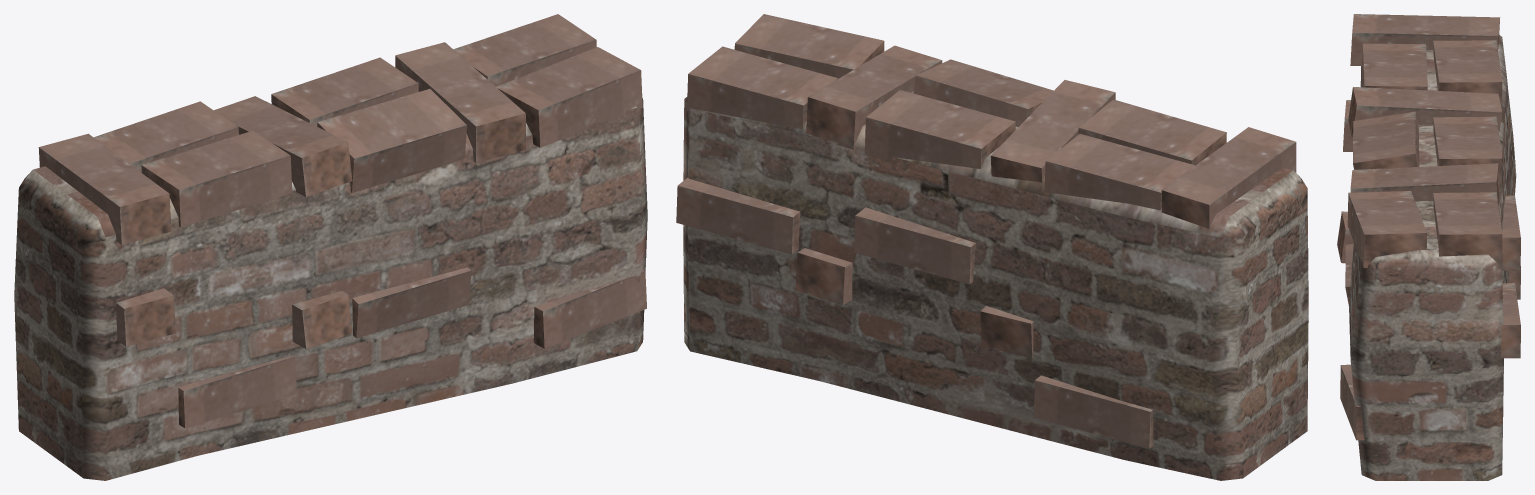
Rendered from sm_bareBrickWall_small.fbx.
The picture shows the model from 3 angles, left to right: view 1: azimuth 30°, elevation 25°; view 2: azimuth 150°, elevation 25°; view 3: azimuth 270°, elevation 25°; orthographic projection. The views are drawn at different scales.
Visible parts, largest first — view 1: sm_bareBrickWall_small; view 2: sm_bareBrickWall_small; view 3: sm_bareBrickWall_small.
Boxes of the visible parts, <box> form: sm_bareBrickWall_small: <box>14,14,647,480</box>; sm_bareBrickWall_small: <box>676,14,1308,480</box>; sm_bareBrickWall_small: <box>1337,14,1520,480</box>.
Bounding box in the file's own units: 201 × 96.66 × 65.35.
Materials: 1 (1 with a texture image).
